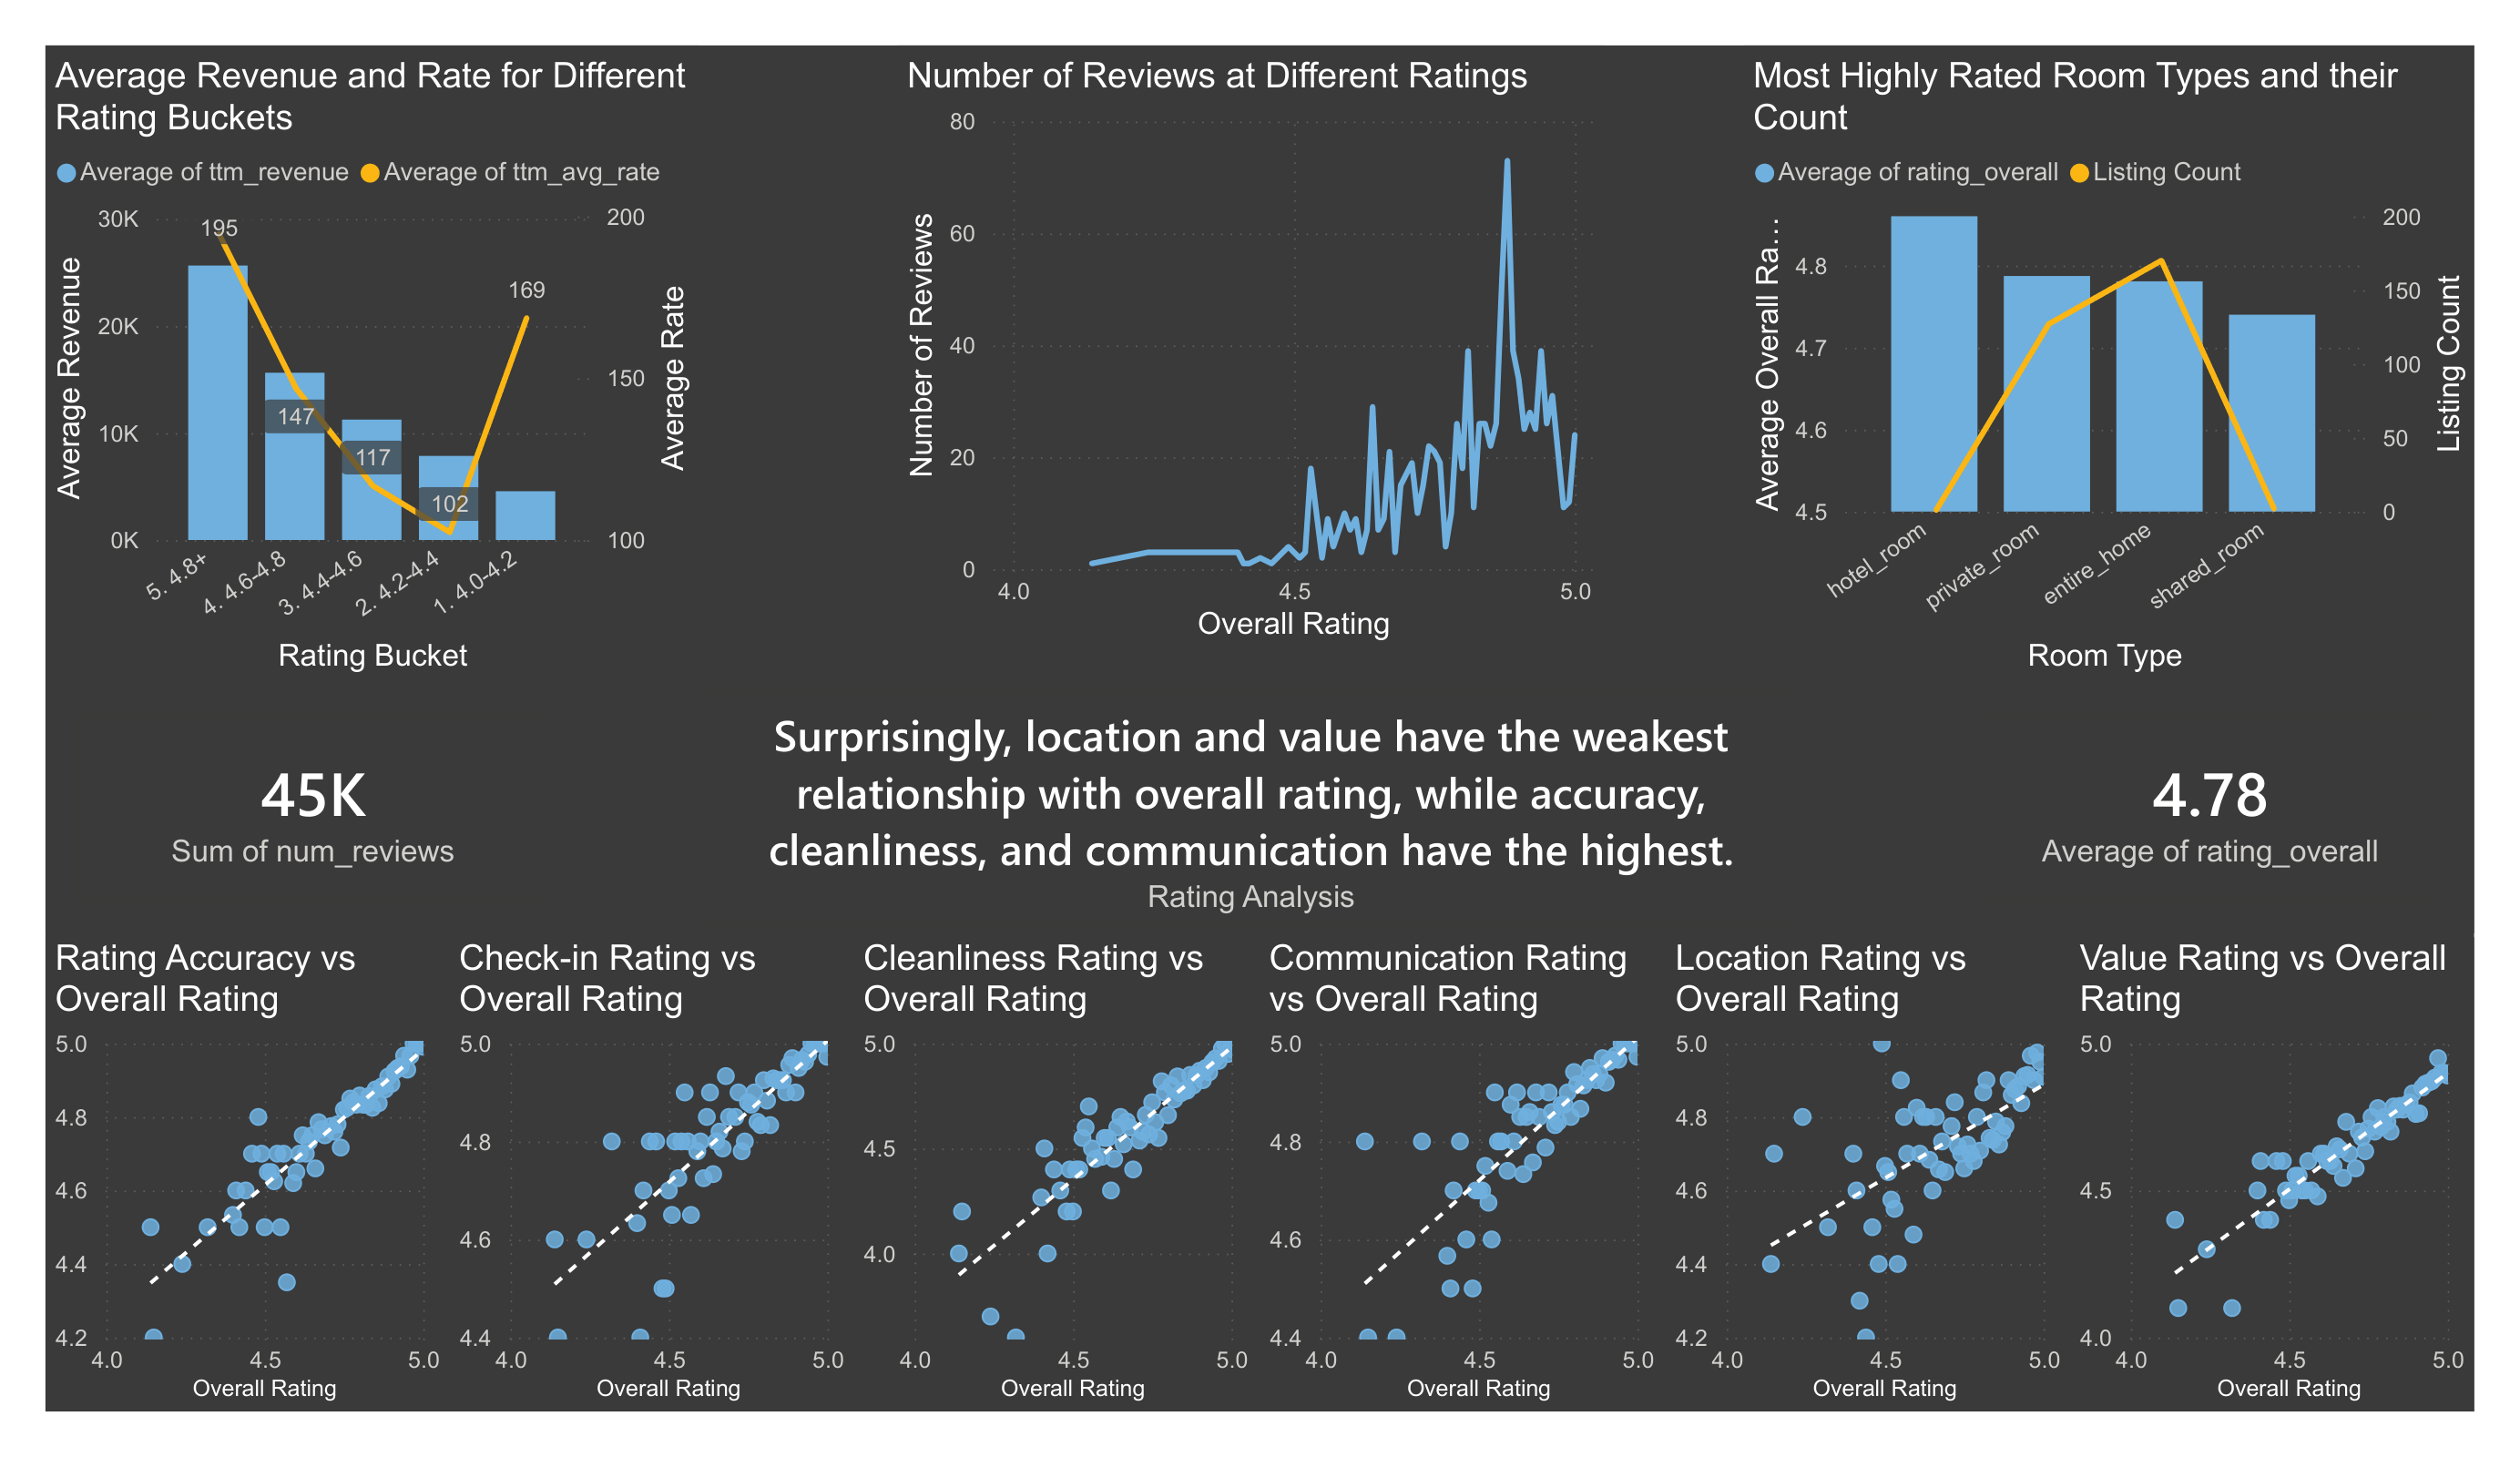

The dashboard page shown, as its layout file describes it:
{"tool":"powerbi","page":{"name":"Guest Experience Analysis","canvas":[1280,720],"ordinal":2},"visuals":[{"type":"lineStackedColumnComboChart","title":"Average Revenue and Rate for Different Rating Buckets","fields":{"Category":["listingdata1.Rating Bucket"],"Y":["Avg(listingdata1.ttm_revenue)"],"Y2":["Avg(listingdata1.ttm_avg_rate)"]},"box":[0,0,344,335],"z":0},{"type":"lineChart","title":"Number of Reviews at Different Ratings","fields":{"Y":["CountNonNull(reviewsdata4.num_reviews)"],"Category":["listingdata1.rating_overall"]},"box":[449,0,372,318],"z":1000},{"type":"cardVisual","fields":{"Data":["Avg(listingdata1.rating_overall)"]},"box":[1000,335,280,133],"z":2000},{"type":"scatterChart","title":"Rating Accuracy vs Overall Rating","fields":{"X":["listingdata1.rating_overall"],"Y":["listingdata1.rating_accuracy"]},"box":[0,470,213,250],"z":3000},{"type":"scatterChart","title":"Check-in Rating vs Overall Rating","fields":{"X":["listingdata1.rating_overall"],"Y":["Avg(listingdata1.rating_checkin)"]},"box":[213,470,213,250],"z":4000},{"type":"scatterChart","title":"Cleanliness Rating vs Overall Rating","fields":{"X":["listingdata1.rating_overall"],"Y":["Avg(listingdata1.rating_cleanliness)"]},"box":[426,470,213,250],"z":5000},{"type":"scatterChart","title":"Communication Rating vs Overall Rating","fields":{"X":["listingdata1.rating_overall"],"Y":["Avg(listingdata1.rating_communication)"]},"box":[640,470,213,250],"z":6000},{"type":"scatterChart","title":"Location Rating vs Overall Rating","fields":{"X":["listingdata1.rating_overall"],"Y":["Avg(listingdata1.rating_location)"]},"box":[854,470,213,250],"z":7000},{"type":"scatterChart","title":"Value Rating vs Overall Rating","fields":{"X":["listingdata1.rating_overall"],"Y":["Avg(listingdata1.rating_value)"]},"box":[1067,470,213,250],"z":8000},{"type":"lineStackedColumnComboChart","title":"Most Highly Rated Room Types and their Count","fields":{"Category":["listingdata1.room_type"],"Y":["Avg(listingdata1.rating_overall)"],"Y2":["listingdata1.Listing Count"]},"box":[895,0,385,335],"z":9000},{"type":"cardVisual","fields":{"Data":["listingdata1.Rating Analysis"]},"box":[338,335.4,592.7,132.6],"z":10000},{"type":"cardVisual","fields":{"Data":["Sum(listingdata1.num_reviews)"]},"box":[0,335,280,133],"z":11000}]}

Visuals, with their boxes on the page's 1280x720 design canvas (x1, y1, x2, y2). These are canvas units, not pixel positions in the 2520x1457 screenshot, which may show the page scaled, cropped or inside an application window:
"Average Revenue and Rate for Different Rating Buckets" lineStackedColumnComboChart: Rect(0, 0, 344, 335)
"Number of Reviews at Different Ratings" lineChart: Rect(449, 0, 821, 318)
cardVisual - Avg(listingdata1.rating_overall): Rect(1000, 335, 1280, 468)
"Rating Accuracy vs Overall Rating" scatterChart: Rect(0, 470, 213, 720)
"Check-in Rating vs Overall Rating" scatterChart: Rect(213, 470, 426, 720)
"Cleanliness Rating vs Overall Rating" scatterChart: Rect(426, 470, 639, 720)
"Communication Rating vs Overall Rating" scatterChart: Rect(640, 470, 853, 720)
"Location Rating vs Overall Rating" scatterChart: Rect(854, 470, 1067, 720)
"Value Rating vs Overall Rating" scatterChart: Rect(1067, 470, 1280, 720)
"Most Highly Rated Room Types and their Count" lineStackedColumnComboChart: Rect(895, 0, 1280, 335)
cardVisual - listingdata1.Rating Analysis: Rect(338, 335, 931, 468)
cardVisual - Sum(listingdata1.num_reviews): Rect(0, 335, 280, 468)
